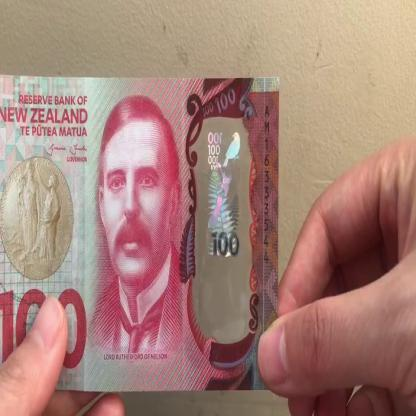100F: (203, 126, 246, 318)
